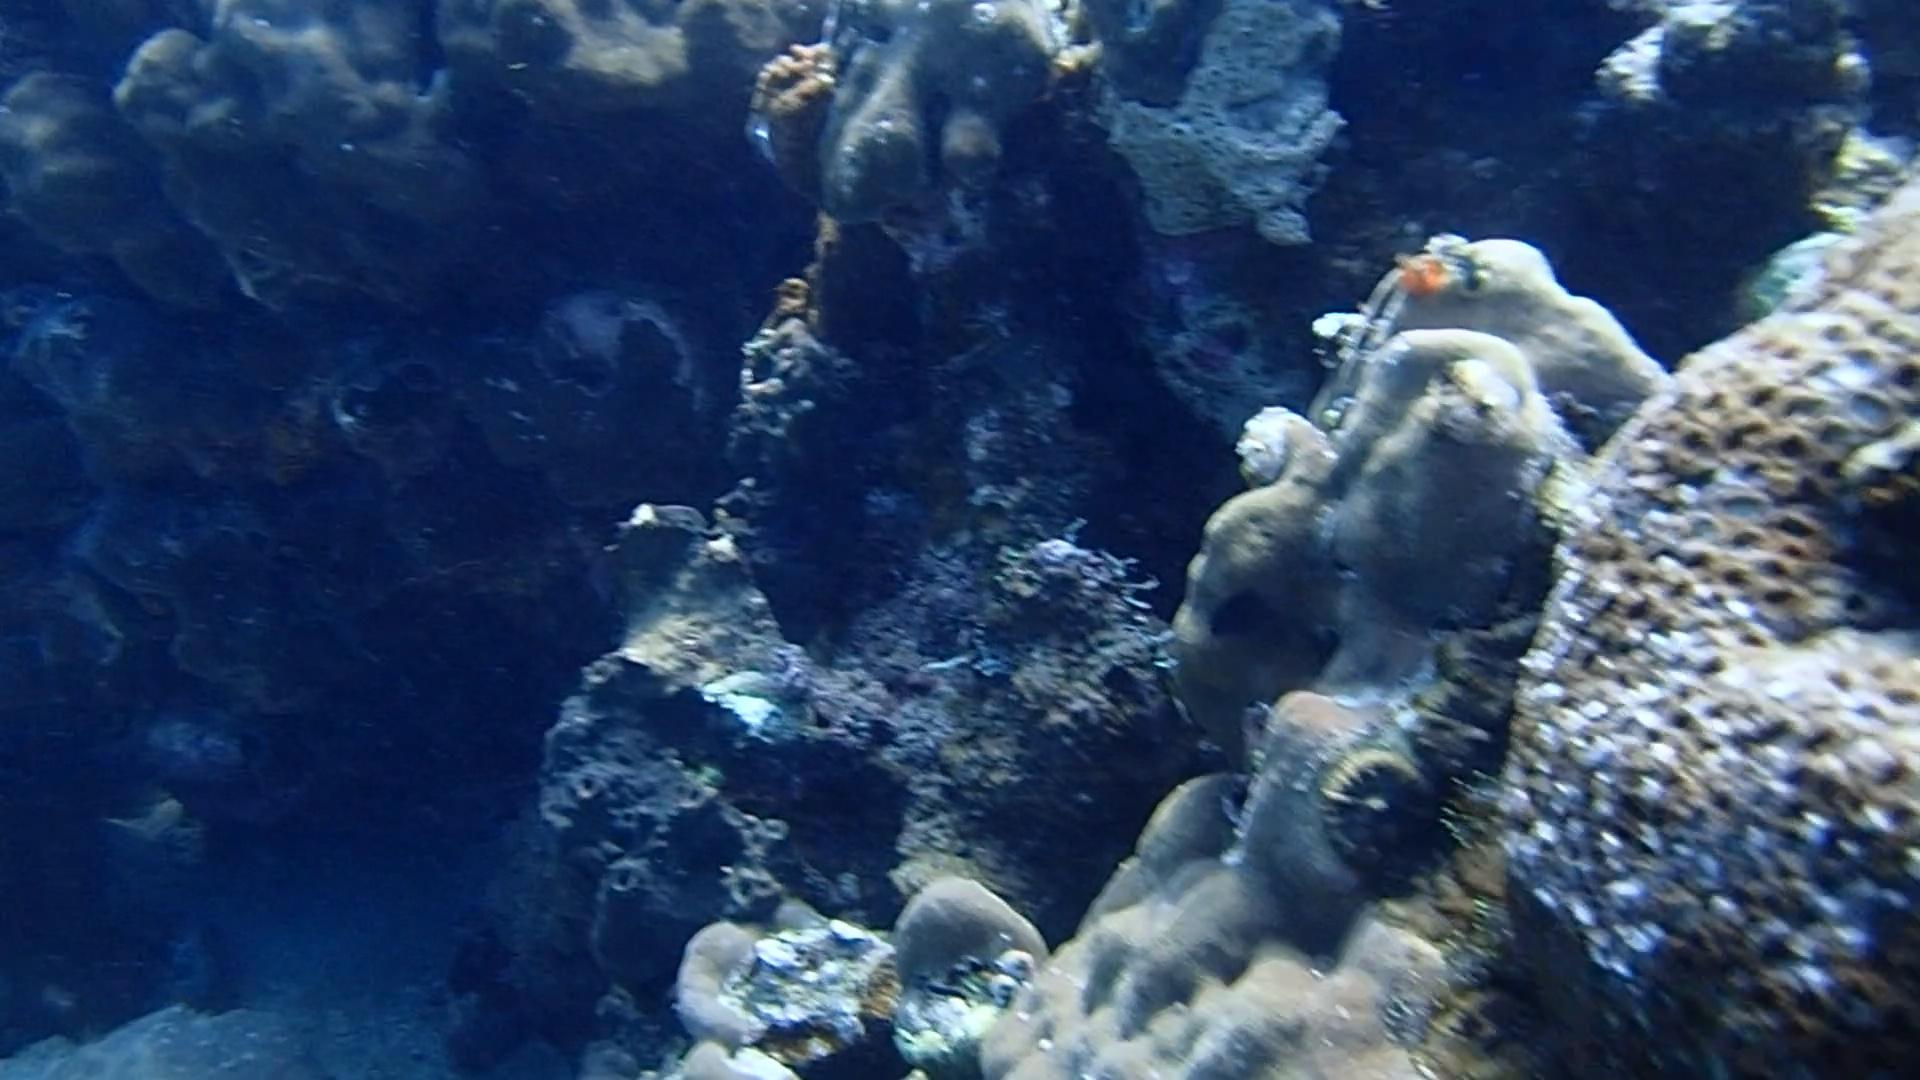Dark Fish: (1085, 646, 1171, 716), (1200, 580, 1284, 646)
